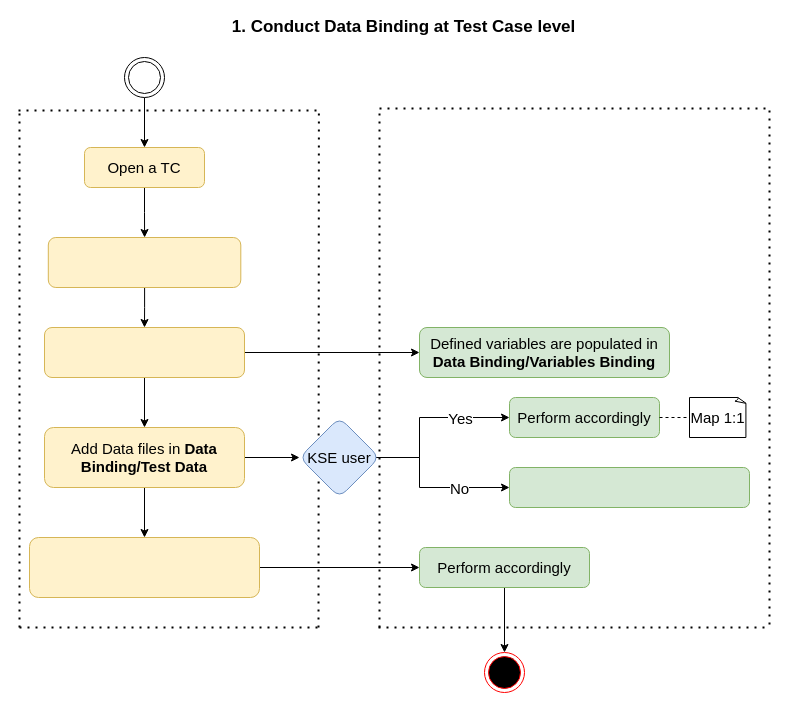
The diagram is 788 pixels wide and 710 high, and some of its shapes have lost their labels. The centre of each missing label's shape, as x and y in pixels:
"Conduct variables binding in Data Binding/Variables Binding" belongs at (x=144, y=567).
"Define variables in Variables" belongs at (x=144, y=352).
"Pop-up to require KSE license" belongs at (x=629, y=487).
"Switch to Data Binding tab" belongs at (x=144, y=262).
